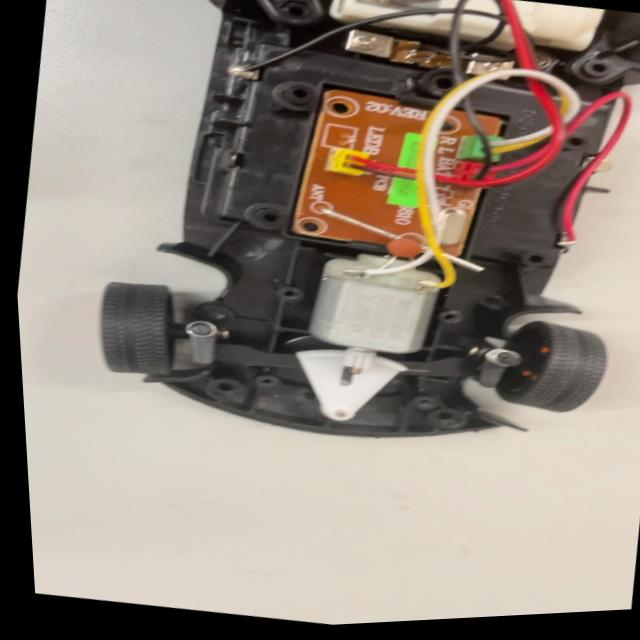motor: (302, 248, 447, 386)
wheel: (478, 311, 613, 429), (77, 273, 208, 386)
